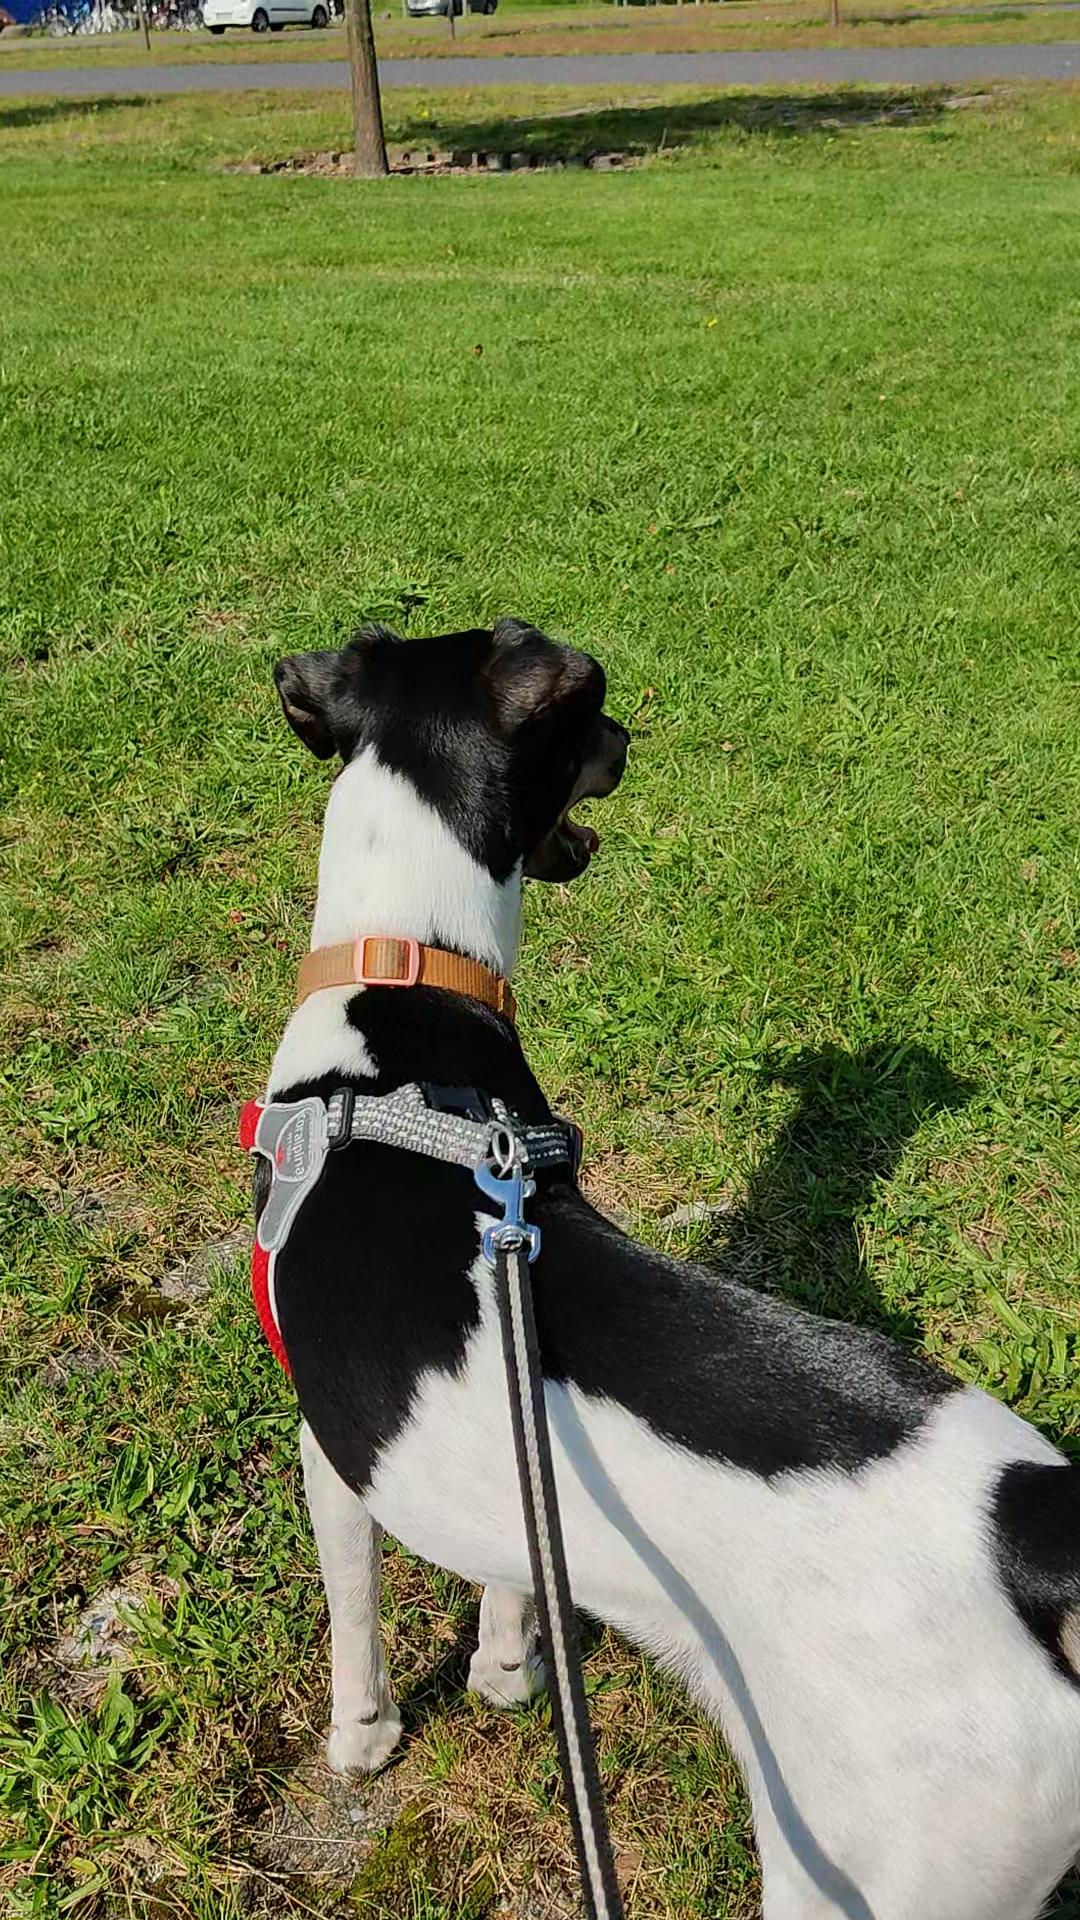Dog: (240, 600, 1079, 1919)
